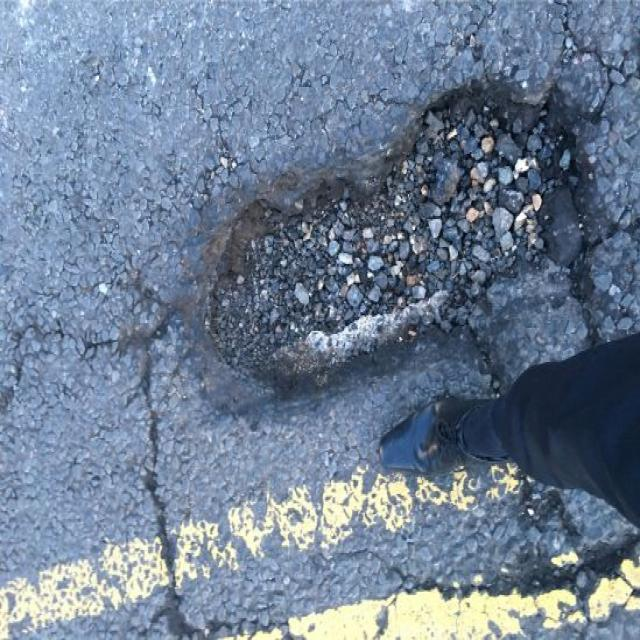pothole: (183, 70, 599, 390)
